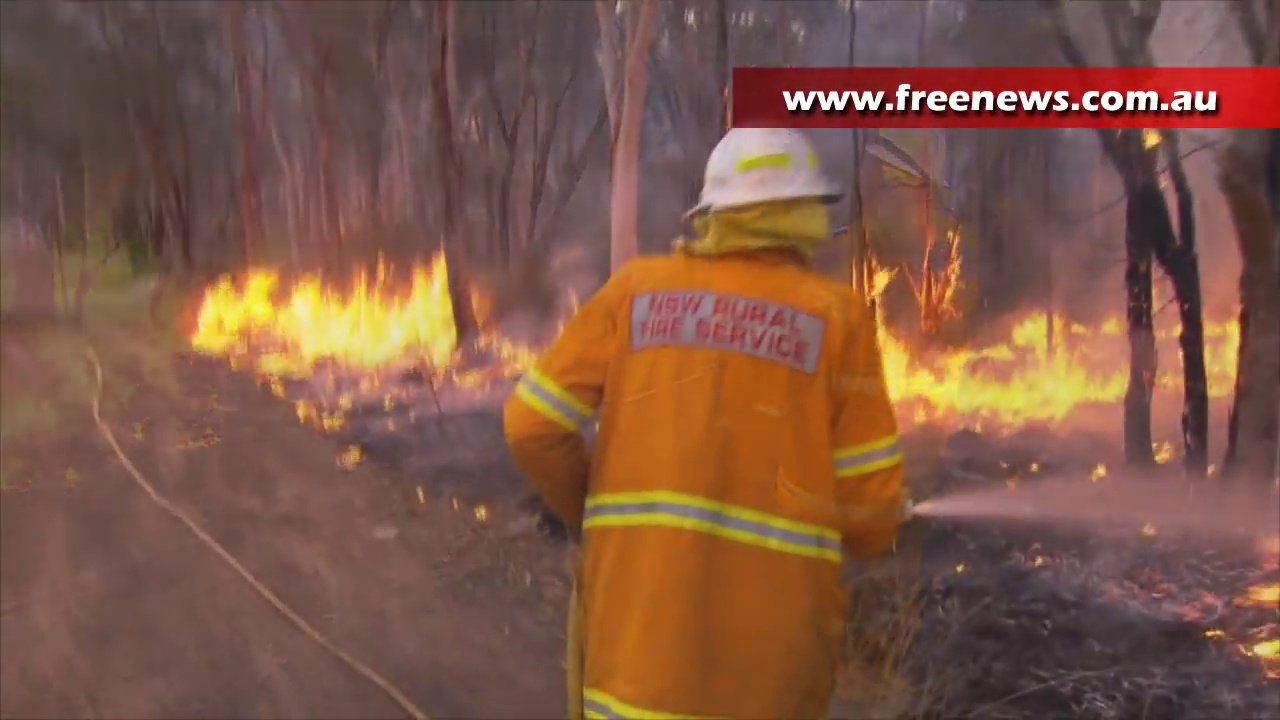fire: (876, 310, 1118, 427), (194, 266, 459, 364), (1202, 314, 1237, 391)
